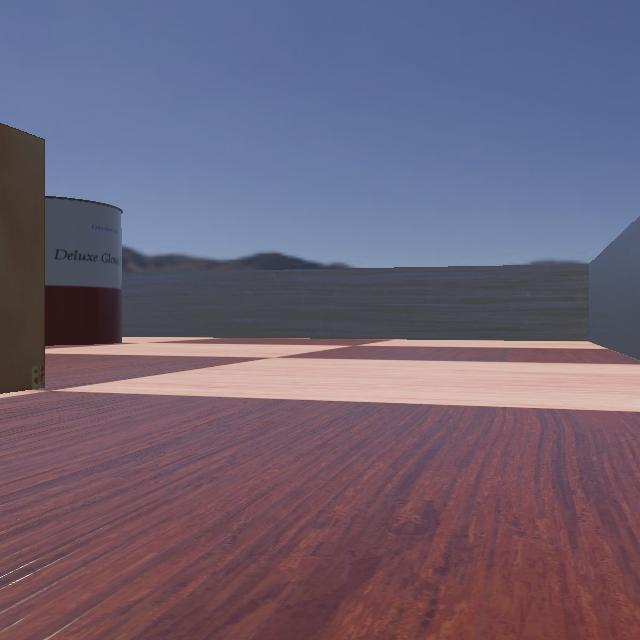cardboard-box: (0, 12, 48, 434)
